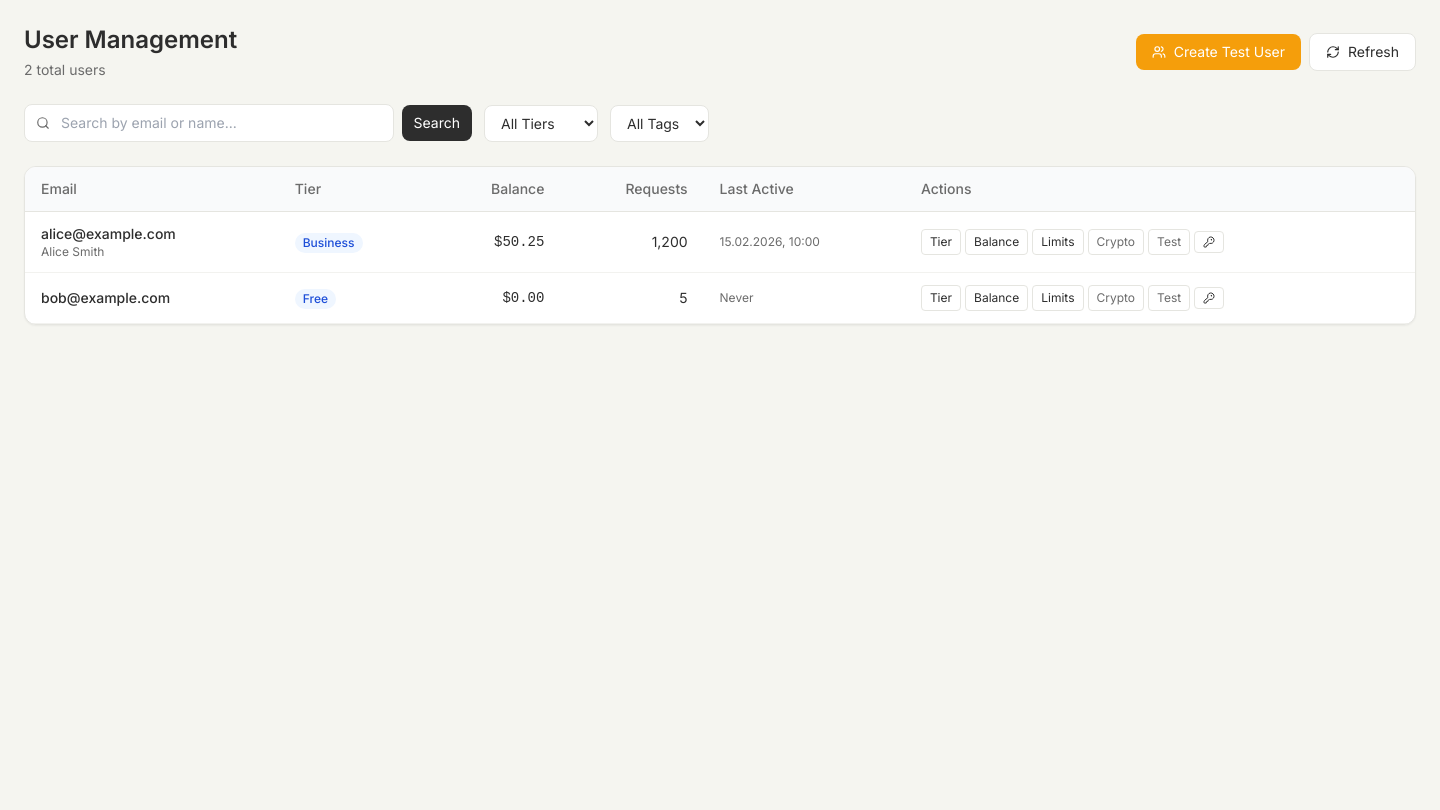
Scenario: AdminUsersPage › Limits action button opens limits modal
This screenshot has width=1440, height=810.
expect the text "alice@example.com" is shown: met, box [41, 224, 176, 244]
Click the button "Limits" in the row of "alice@example.com" at coordinates (1058, 242), box [1032, 229, 1084, 255]
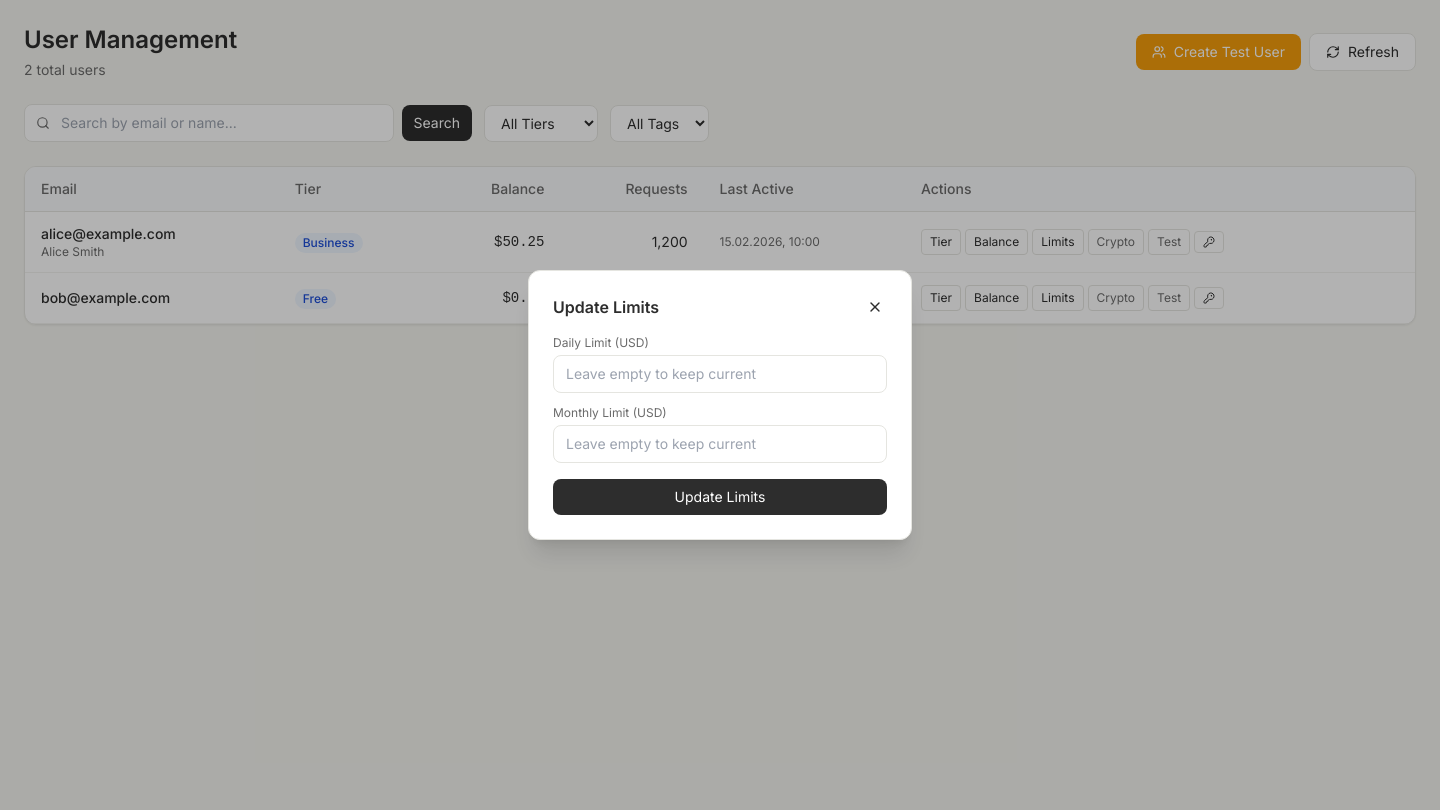
expect the button "Update Limits" is shown: met, box [553, 479, 887, 515]
expect the number of number fields with placeholder "Leave empty to keep current" is 2: met, box [553, 355, 887, 393]; [553, 425, 887, 463]
